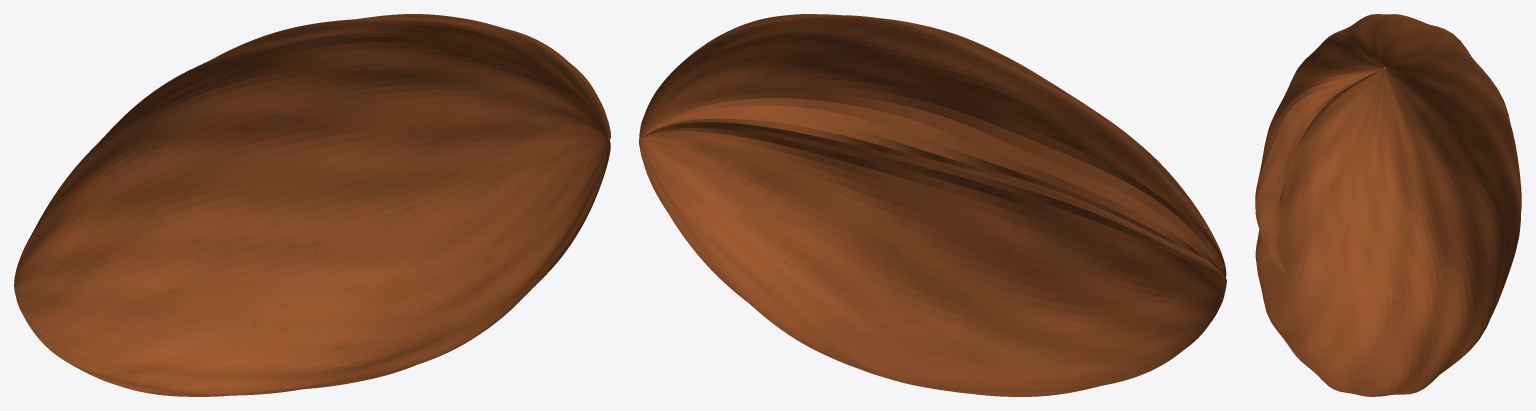
File: geisha.glb
3 views of the same model, side by side, from view 1: azimuth 30°, elevation 25°; view 2: azimuth 150°, elevation 25°; view 3: azimuth 270°, elevation 25° (orthographic). The views are drawn at different scales.
Parts seen in each view (by area): view 1: world; view 2: world; view 3: world.
Part boxes in pixels (x1=…): world: x1=14, y1=14, x2=610, y2=396; world: x1=639, y1=14, x2=1226, y2=396; world: x1=1255, y1=14, x2=1521, y2=396.
Size of the model in its own units: 1.38 by 0.7623 by 0.5845.
Materials: 1 (1 with a texture image).
